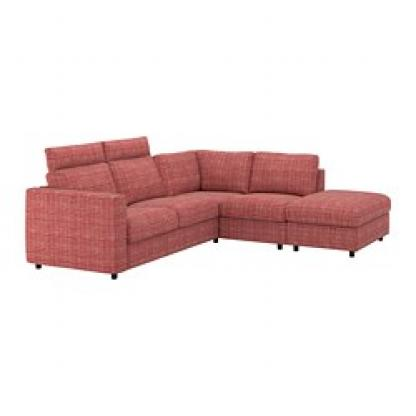Sofa: (25, 138, 390, 274)
